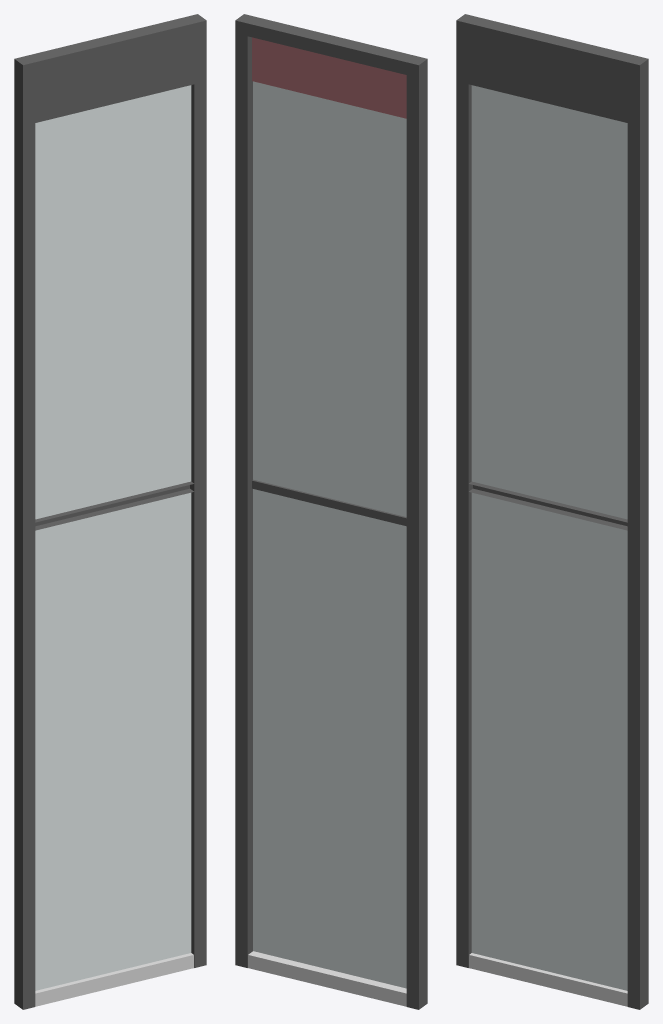
Rendered from window4.fbx.
The picture shows the model from 3 angles, left to right: view 1: azimuth 30°, elevation 25°; view 2: azimuth 150°, elevation 25°; view 3: azimuth 330°, elevation 25°; orthographic projection.
Visible parts, largest first — view 1: window4, 立方体.001; view 2: window4, 立方体.001; view 3: window4, 立方体.001.
Part boxes in pixels (left/top/right/bottom): window4: left=14, top=14, right=206, bottom=1009; 立方体.001: left=35, top=953, right=193, bottom=1006; window4: left=235, top=14, right=427, bottom=1009; 立方体.001: left=248, top=951, right=406, bottom=1006; window4: left=456, top=14, right=648, bottom=1009; 立方体.001: left=469, top=953, right=627, bottom=1006.
Size of the model in its own units: 120 by 590 by 10.01.
